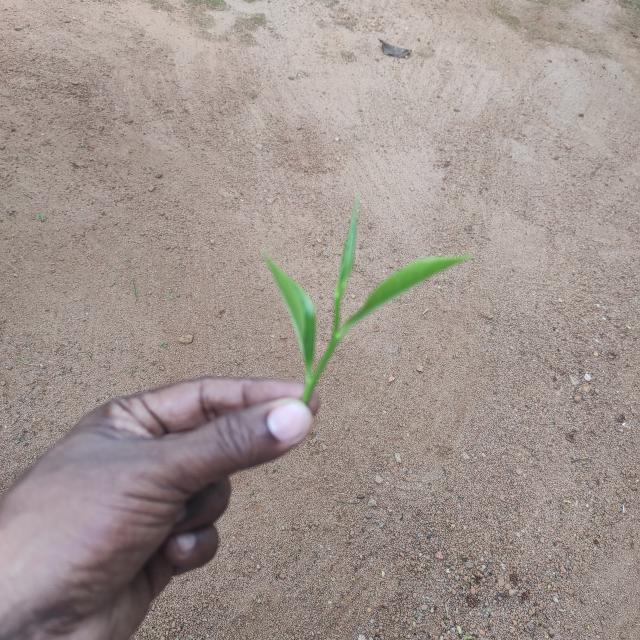unopened_leaf: (329, 194, 368, 320)
